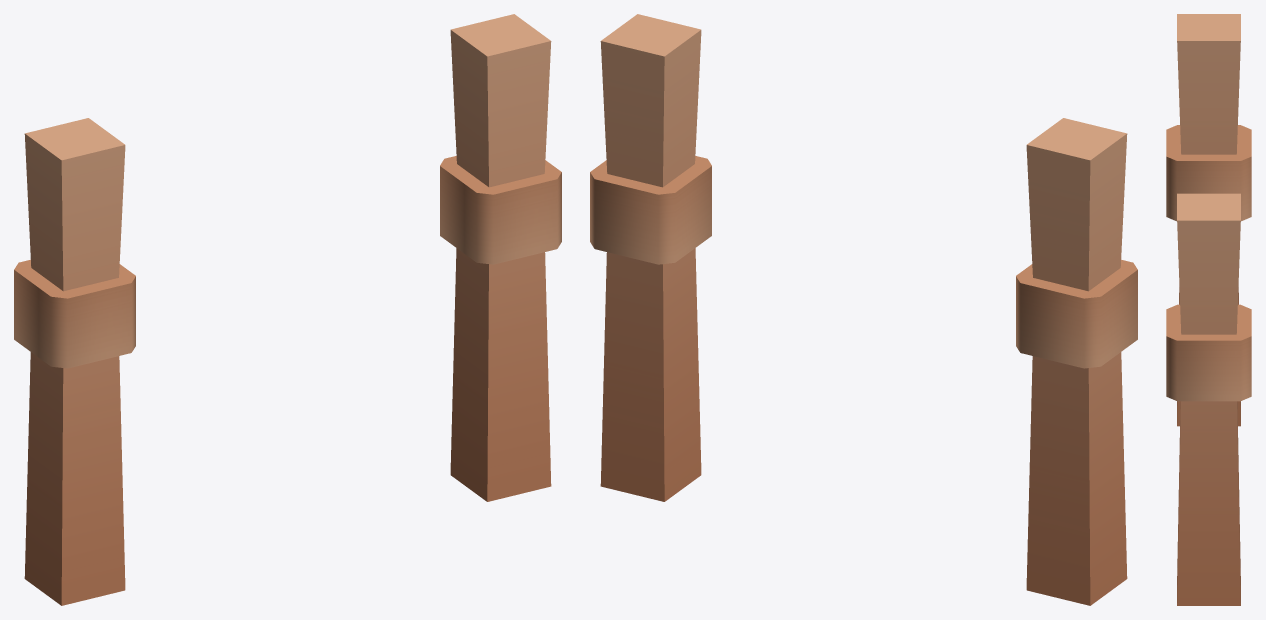
Rendered from wall_pirate.fbx.
The picture shows the model from 3 angles, left to right: view 1: azimuth 30°, elevation 25°; view 2: azimuth 150°, elevation 25°; view 3: azimuth 270°, elevation 25°; orthographic projection. The views are drawn at different scales.
Parts seen in each view (by area): view 1: structure-fence; view 2: structure-fence; view 3: structure-fence.
Part boxes in pixels (x1,y1,x2,y2): structure-fence: (14, 14, 561, 605); structure-fence: (590, 14, 1137, 605); structure-fence: (1166, 14, 1251, 605).
Size of the model in its own units: 240 by 200 by 40.
